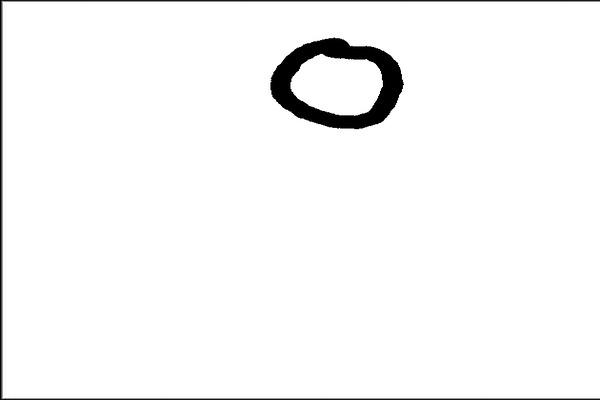O: (253, 28, 407, 137)
